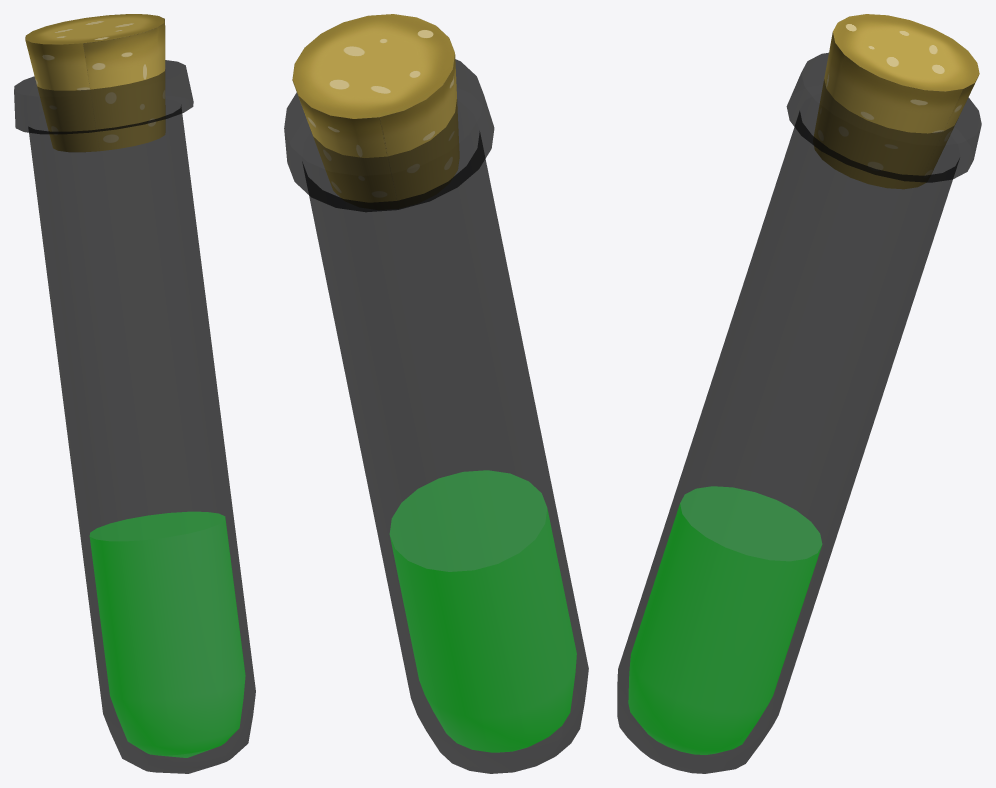
The model's file is green_glowing_test_tube.glb.
The picture shows the model from 3 angles, left to right: view 1: azimuth 30°, elevation 25°; view 2: azimuth 150°, elevation 25°; view 3: azimuth 270°, elevation 25°; orthographic projection. The views are drawn at different scales.
Visible parts, largest first — view 1: pCylinder8, pCylinder10, pCylinder9; view 2: pCylinder8, pCylinder10, pCylinder9; view 3: pCylinder8, pCylinder10, pCylinder9.
Boxes of the visible parts, bbox=[...] form: pCylinder8: bbox=[14, 60, 255, 773]; pCylinder10: bbox=[89, 511, 245, 757]; pCylinder9: bbox=[25, 14, 165, 152]; pCylinder8: bbox=[284, 59, 588, 773]; pCylinder10: bbox=[389, 470, 576, 752]; pCylinder9: bbox=[292, 14, 459, 202]; pCylinder8: bbox=[617, 52, 981, 773]; pCylinder10: bbox=[628, 486, 822, 754]; pCylinder9: bbox=[814, 14, 979, 189].
Bounding box in the file's own units: 2.33 × 9.68 × 4.35.
3 materials, 1 textured.
